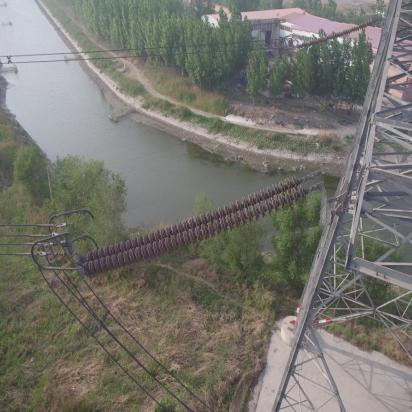insulator: (70, 182, 333, 268), (293, 18, 386, 48)
